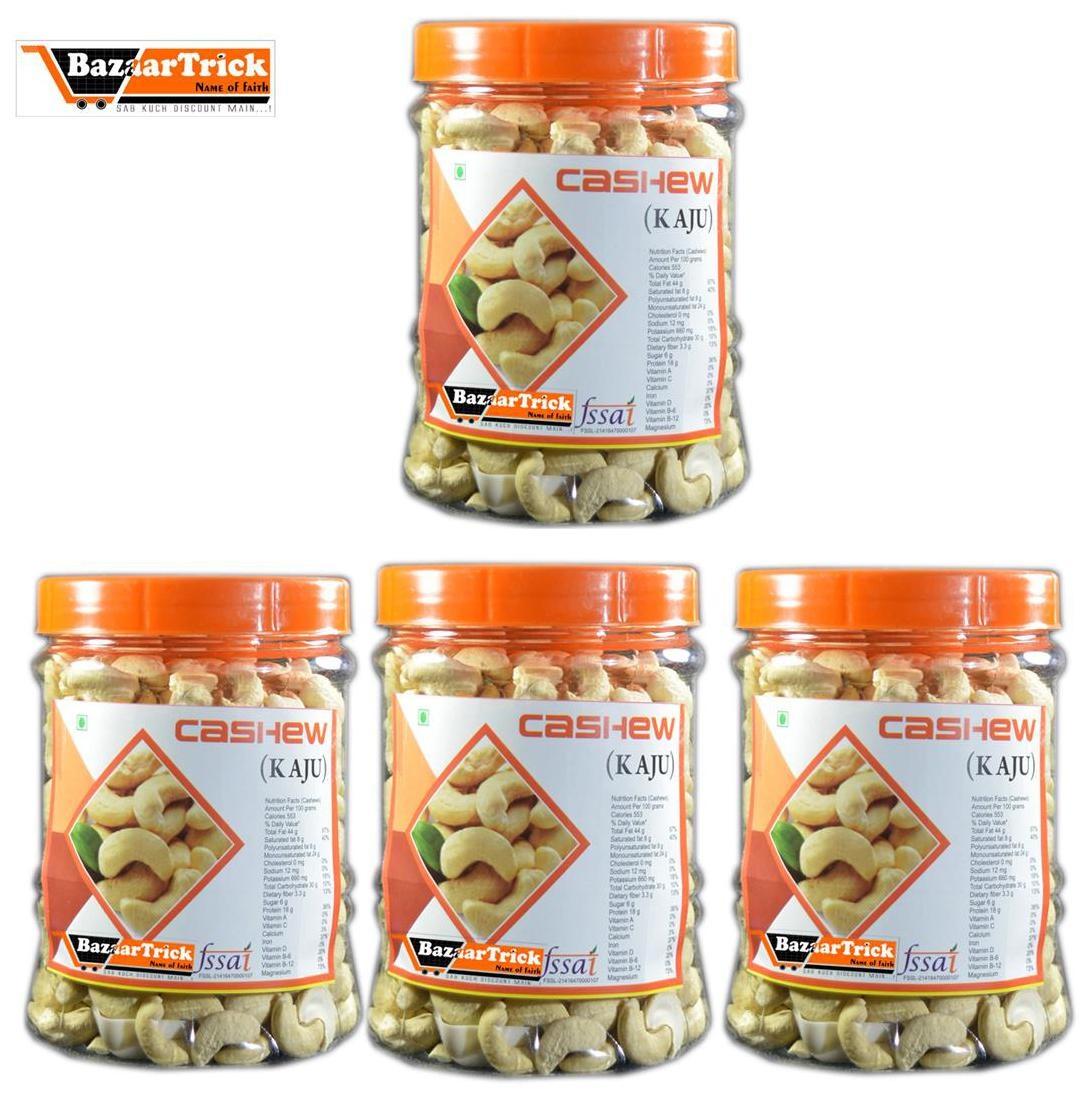JAR: (392, 10, 760, 531), (719, 559, 1080, 1080), (366, 561, 715, 1082), (17, 563, 366, 1074)
